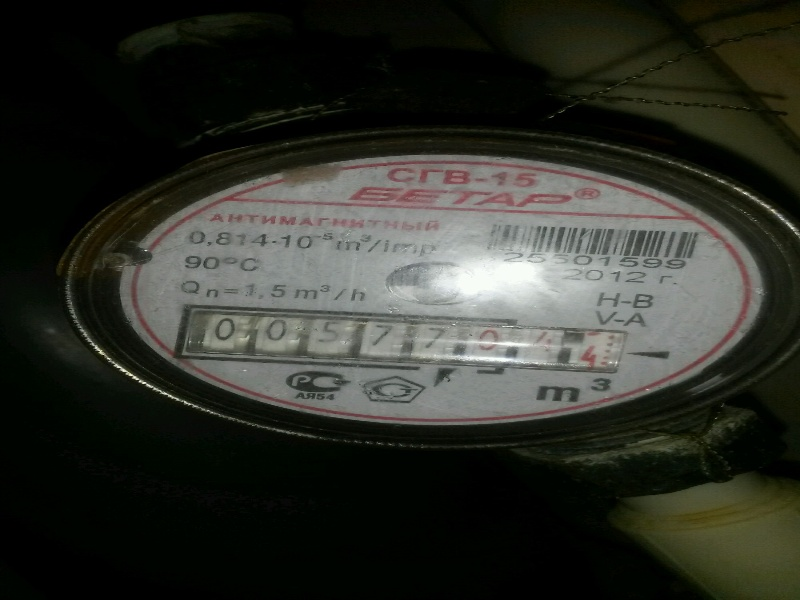meter: (182, 307, 624, 379)
